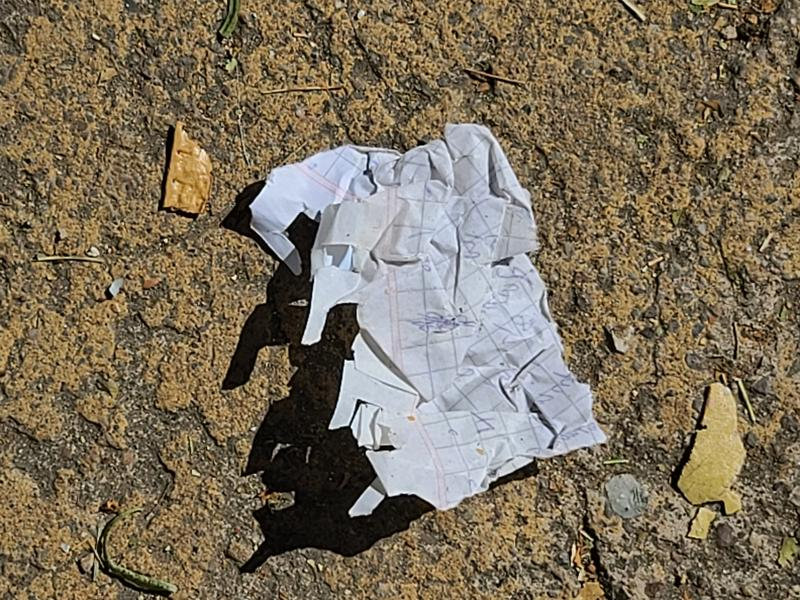papel: (249, 125, 608, 519)
